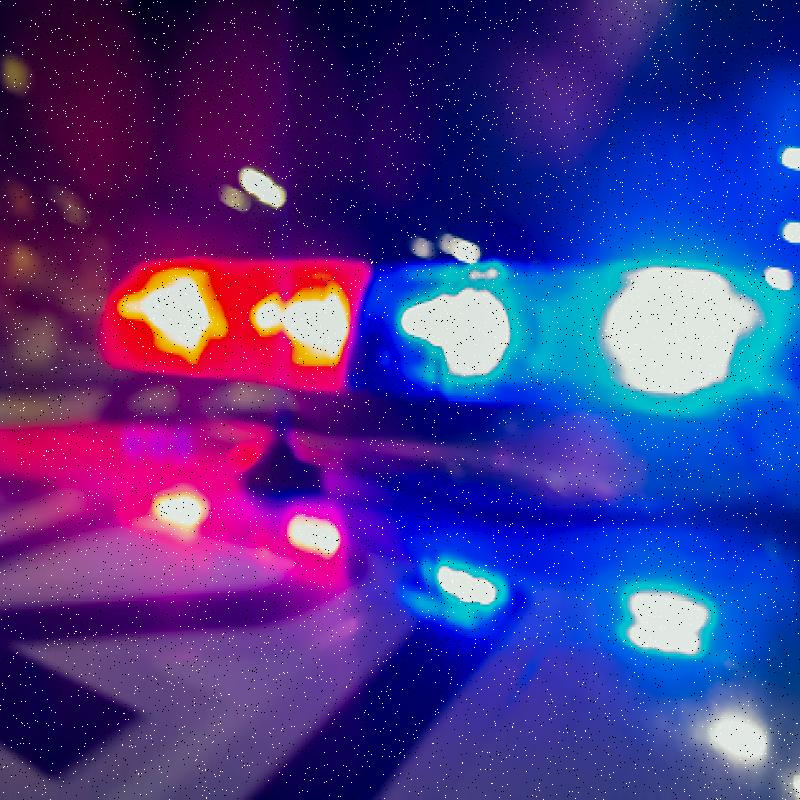AmbulanceSiren: (84, 199, 800, 560)
